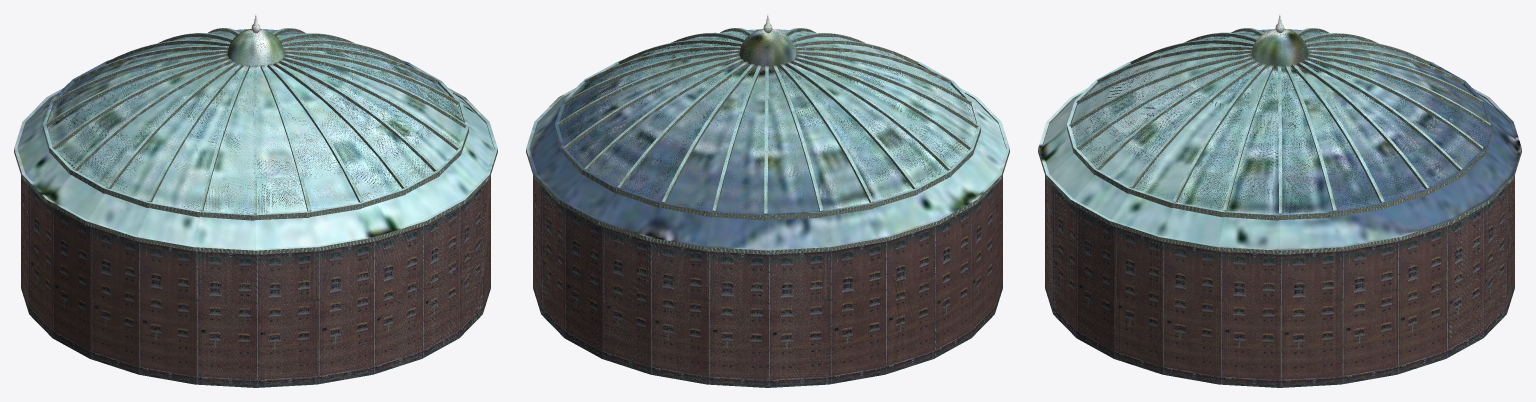
Rendered from Koepel.dae.
The picture shows the model from 3 angles, left to right: view 1: azimuth 30°, elevation 25°; view 2: azimuth 150°, elevation 25°; view 3: azimuth 270°, elevation 25°; orthographic projection.
Visible parts, largest first — view 1: Component_45, Component_47, Component_48, Component_43 (×19), Component_46, Component_49, Component_52; view 2: Component_45, Component_47, Component_48, Component_43 (×19), Component_46, Component_49, Component_52; view 3: Component_45, Component_47, Component_48, Component_43 (×19), Component_46, Component_49, Component_52.
Part boxes in pixels (box(x1,y1,x2,y2)): Component_45: box(21, 175, 490, 387); Component_47: box(47, 29, 464, 213); Component_48: box(17, 88, 494, 249); Component_43 (×19): box(45, 39, 466, 213); Component_46: box(14, 88, 497, 254); Component_49: box(43, 59, 468, 220); Component_52: box(227, 15, 284, 66); Component_45: box(533, 175, 1002, 387); Component_47: box(559, 29, 976, 213); Component_48: box(529, 88, 1006, 249); Component_43 (×19): box(557, 39, 978, 213); Component_46: box(526, 88, 1009, 254); Component_49: box(555, 59, 980, 220); Component_52: box(739, 15, 796, 66); Component_45: box(1045, 175, 1514, 387); Component_47: box(1071, 29, 1489, 213); Component_48: box(1041, 88, 1518, 249); Component_43 (×19): box(1069, 39, 1490, 213); Component_46: box(1038, 88, 1521, 254); Component_49: box(1067, 59, 1492, 220); Component_52: box(1251, 15, 1308, 66).
Bounding box in the file's own units: 2549 × 2549 × 1597.
3 materials, 3 textured.
